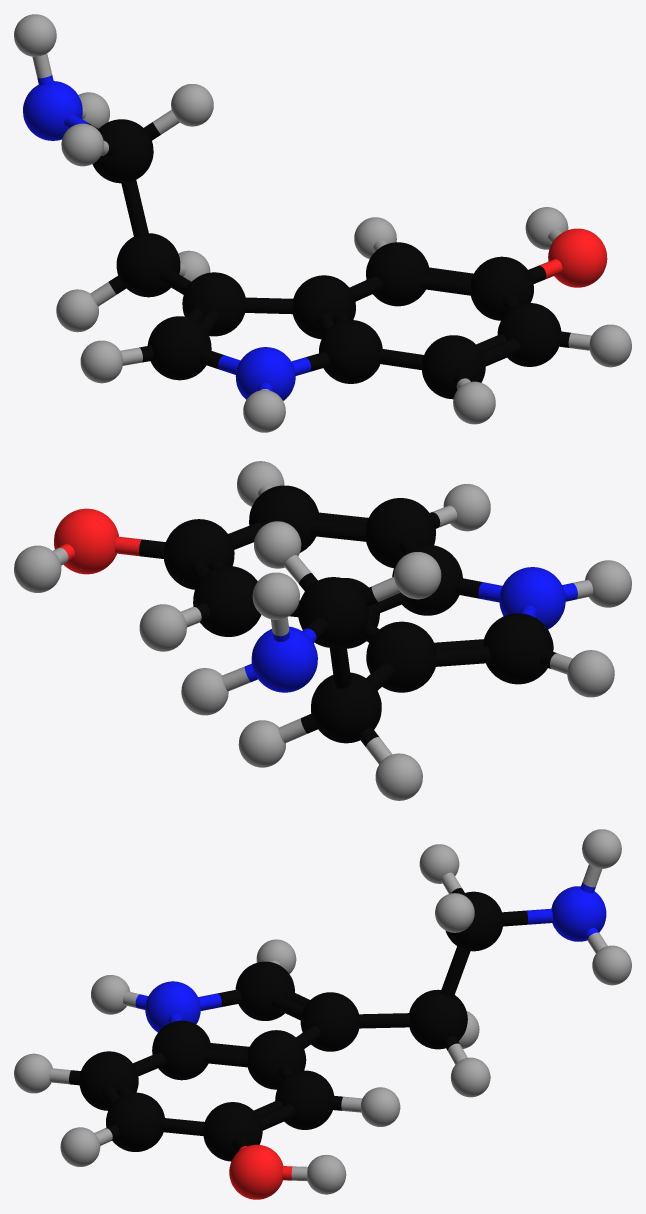
The picture shows the model from 3 angles, top to bottom: view 1: azimuth 30°, elevation 25°; view 2: azimuth 150°, elevation 25°; view 3: azimuth 270°, elevation 25°; orthographic projection. The views are drawn at different scales.
Visible parts, largest first — view 1: Serotonin_0; view 2: Serotonin_0; view 3: Serotonin_0.
Boxes of the visible parts, left/top/right/bottom form: Serotonin_0: left=14, top=14, right=631, bottom=432; Serotonin_0: left=14, top=461, right=631, bottom=800; Serotonin_0: left=14, top=829, right=631, bottom=1199.
Bounding box in the file's own units: 7.61 × 3.56 × 8.6.
